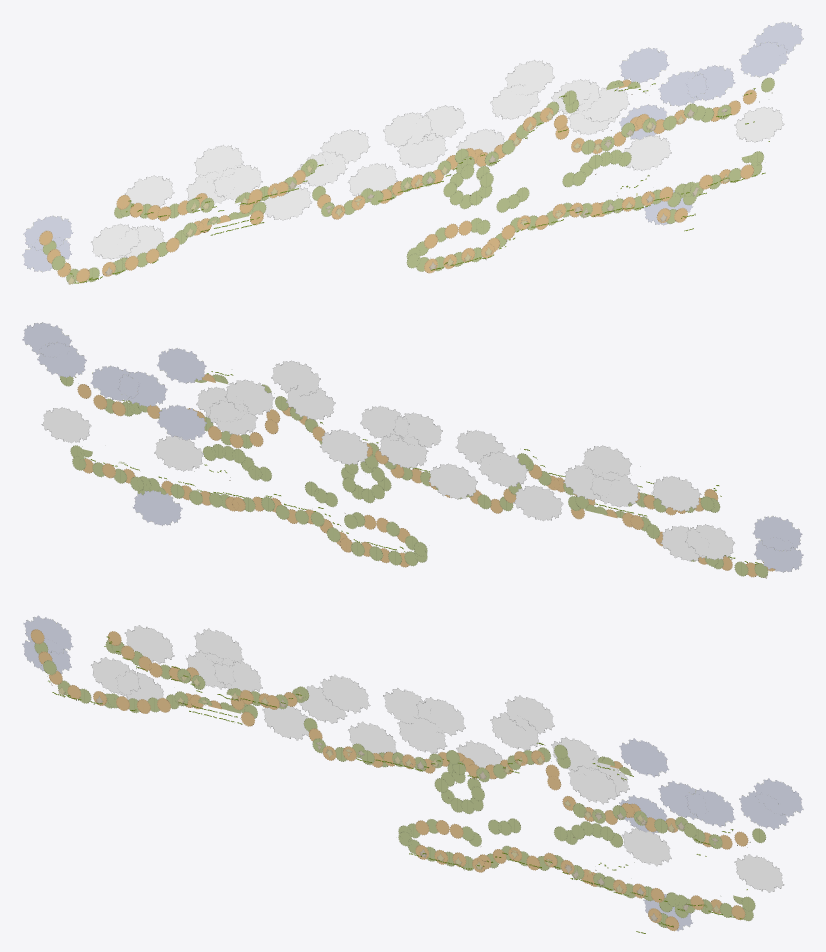
Rendered from yama02_bg.glb.
The picture shows the model from 3 angles, top to bottom: view 1: azimuth 30°, elevation 25°; view 2: azimuth 150°, elevation 25°; view 3: azimuth 330°, elevation 25°; orthographic projection.
Parts seen in each view (by area): view 1: yama02_bg; view 2: yama02_bg; view 3: yama02_bg.
Boxes of the visible parts, x1,y1,x2,y2 form: yama02_bg: (22, 21, 803, 284); yama02_bg: (22, 322, 803, 578); yama02_bg: (22, 615, 803, 933).
Bounding box in the file's own units: 5693 × 1353 × 297.
Materials: 12 (11 with a texture image).
